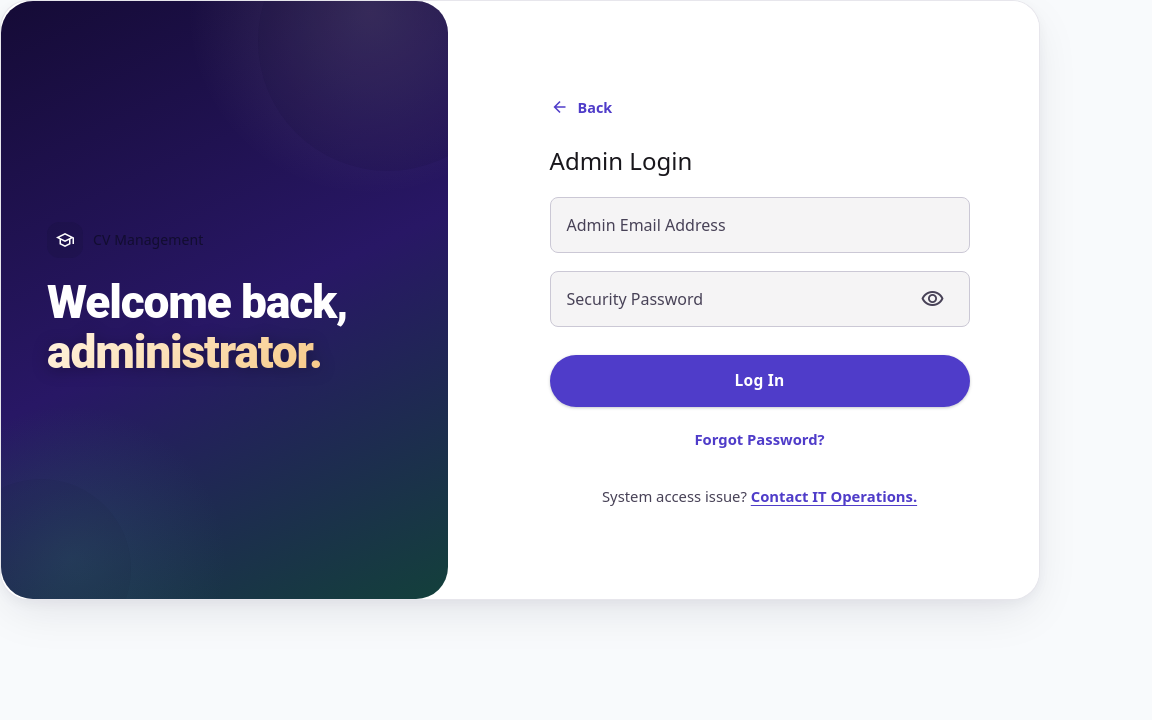
Test: admin Sprint 2 authentication › shows validation feedback for required Admin login fields
This screenshot has width=1152, height=720.
Click the button "Log In" at (760, 381), box [550,355,970,407]
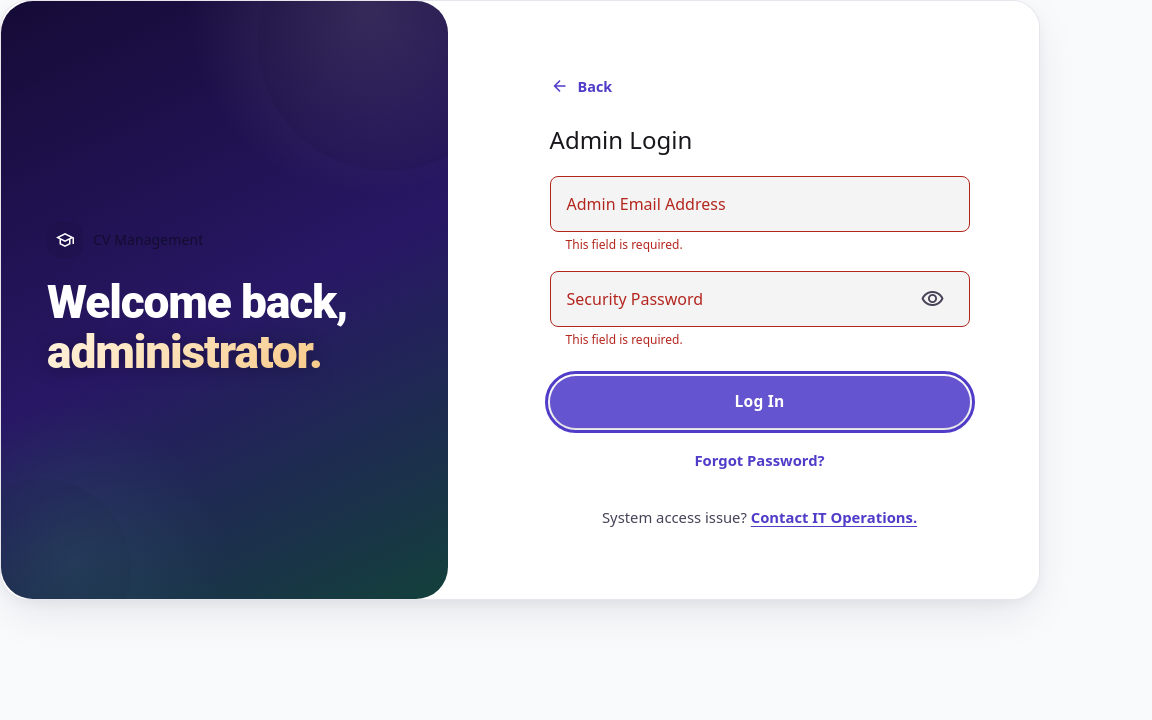
Result: the text "This field is required." is shown 2 times at [566,236,683,253]; [566,331,683,348]
